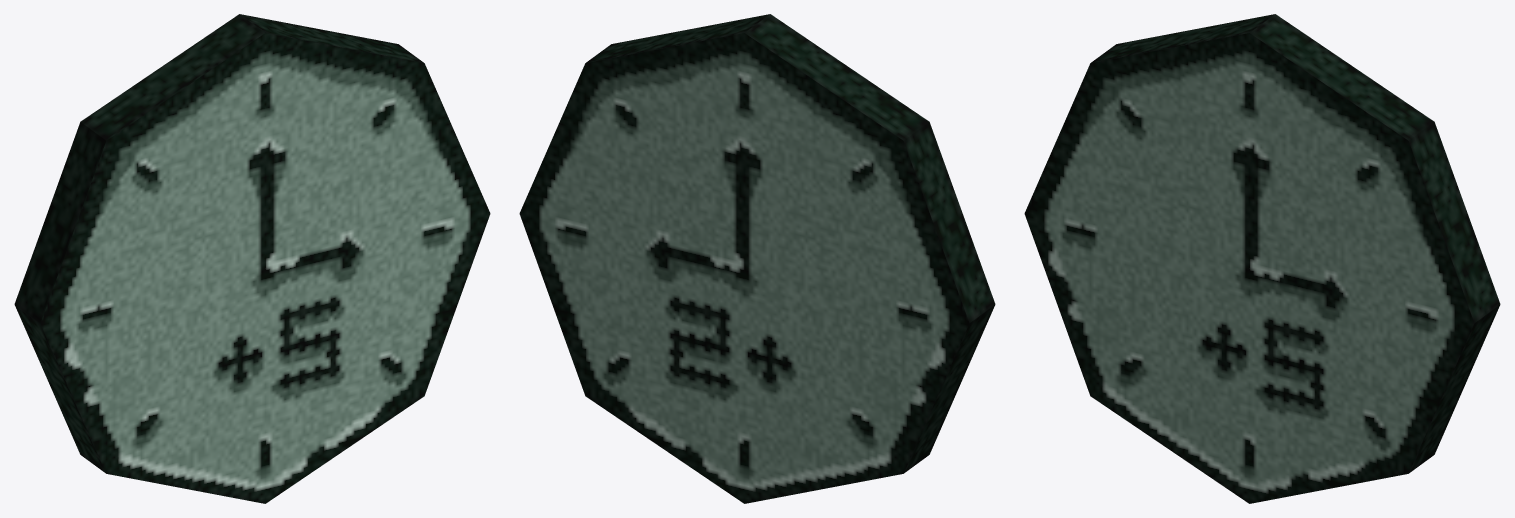
The model's file is clockUp.fbx.
3 renders of one model, left to right at view 1: azimuth 30°, elevation 25°; view 2: azimuth 150°, elevation 25°; view 3: azimuth 330°, elevation 25°, orthographic.
Visible parts, largest first — view 1: ClockUp; view 2: ClockUp; view 3: ClockUp.
Boxes of the visible parts, x1,y1,x2,y2 form: ClockUp: (14, 14, 490, 503); ClockUp: (519, 14, 995, 503); ClockUp: (1024, 14, 1500, 503).
Size of the model in its own units: 50 by 50 by 5.
Materials: 1 (1 with a texture image).
